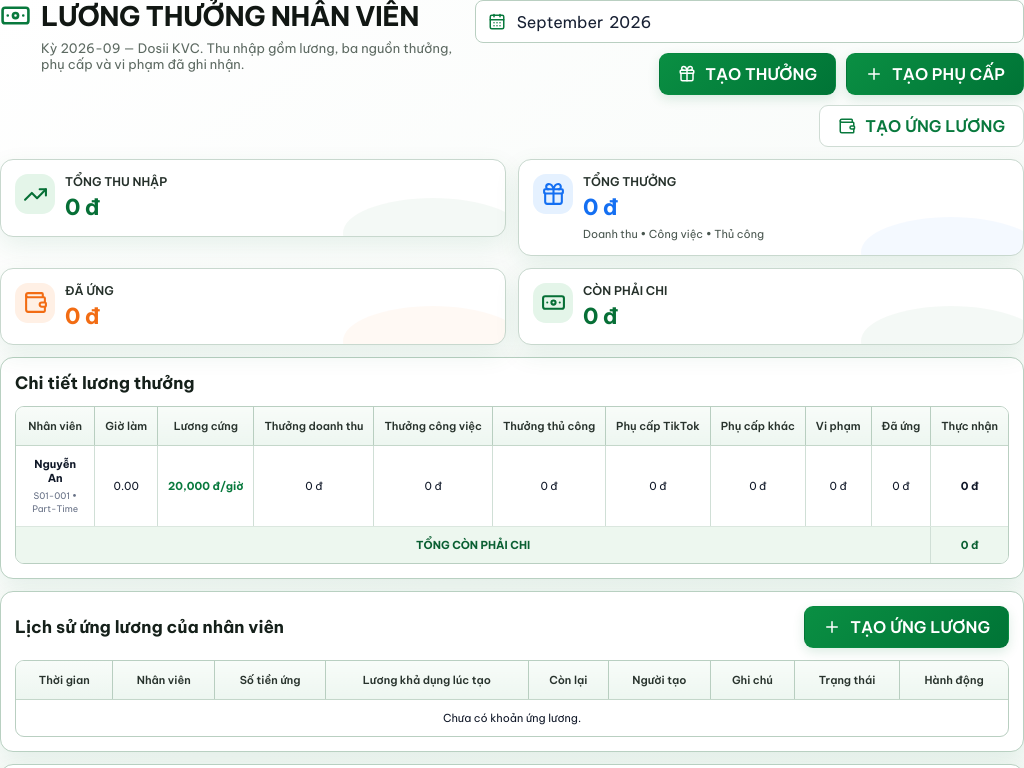
store order, attendance, and payroll summaries › requires one confirmation before CHỐT SỔ
Replace the text in the field showing "2026-09" with "2026-08" at point(763, 22), box [515,1,1011,42]
(page scrolled)
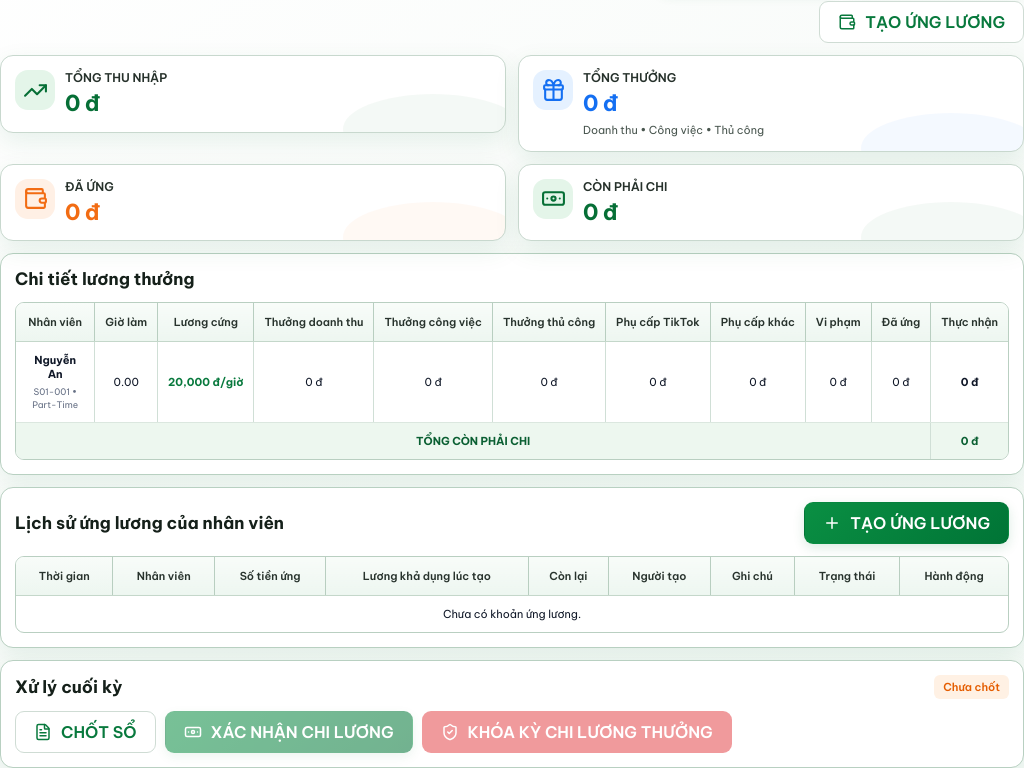
Result: the button "CHỐT SỔ" is enabled
Click the button "CHỐT SỔ".
click(85, 732)  # box [15,711,156,753]
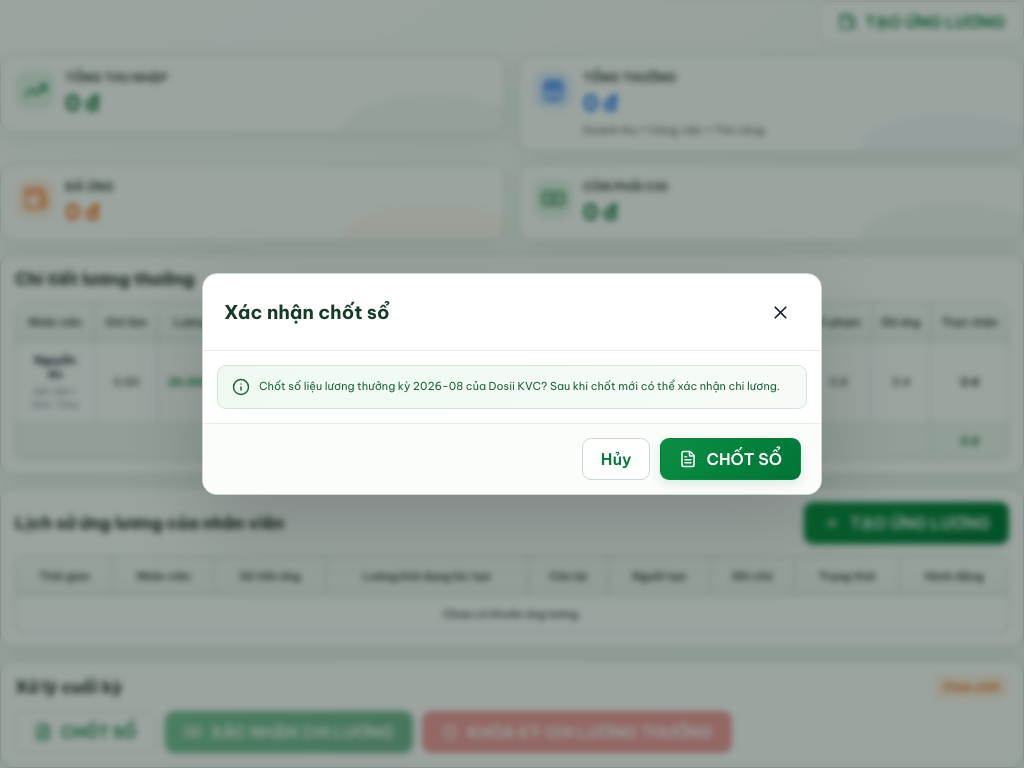
Click the button "CHỐT SỔ".
click(731, 459)  # box [660,438,801,480]
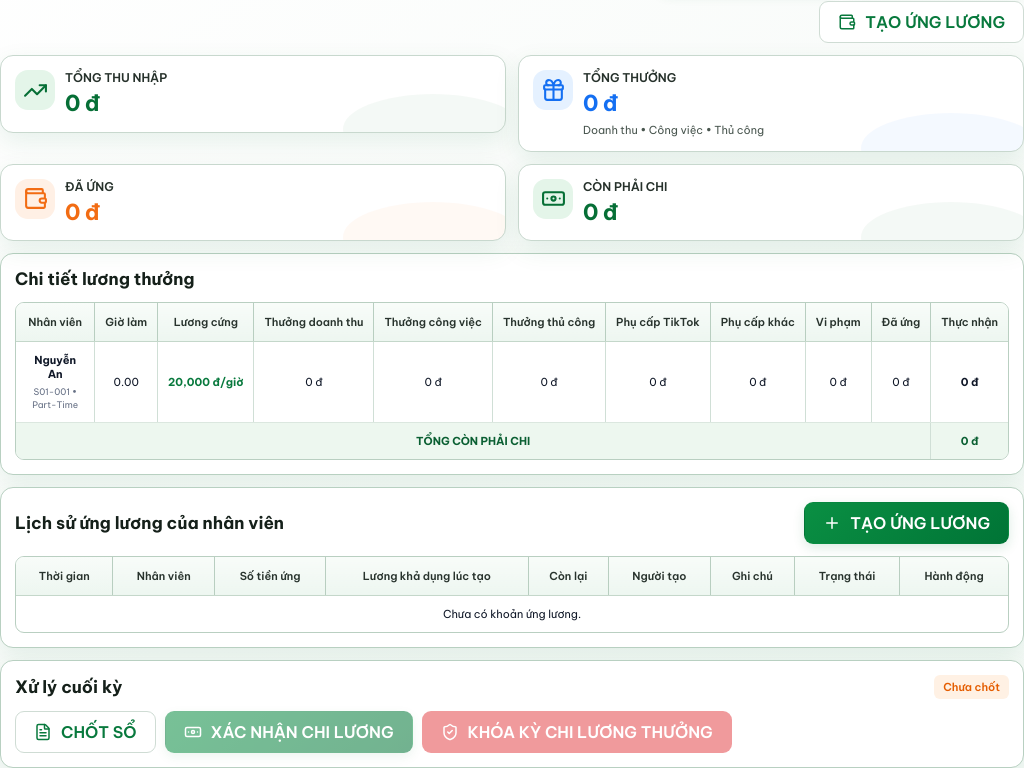
Result: the heading "Xác nhận chốt sổ" is gone
